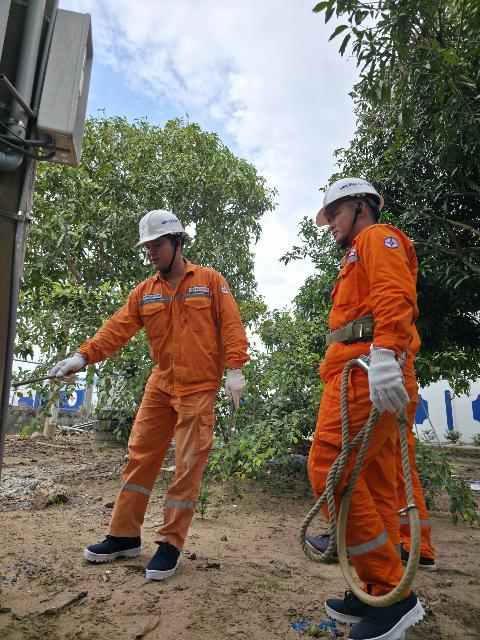gloves: (353, 349, 407, 408), (41, 348, 88, 390), (222, 371, 245, 408)
harness: (319, 310, 416, 351)
helmet: (307, 163, 381, 226), (118, 205, 187, 246)
shoes: (333, 583, 435, 640), (312, 572, 402, 624), (131, 533, 188, 583), (73, 528, 144, 563), (299, 528, 355, 570), (392, 543, 443, 575)
